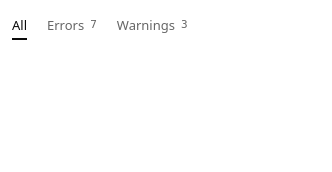
Test: Tabs › shows the count inside the label and selects on click
Click the tab "Errors 7" at (72, 26), box [47,12,97,40]
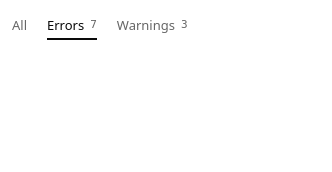
Result: the tab "Errors 7" is selected at [47,12,97,40]
